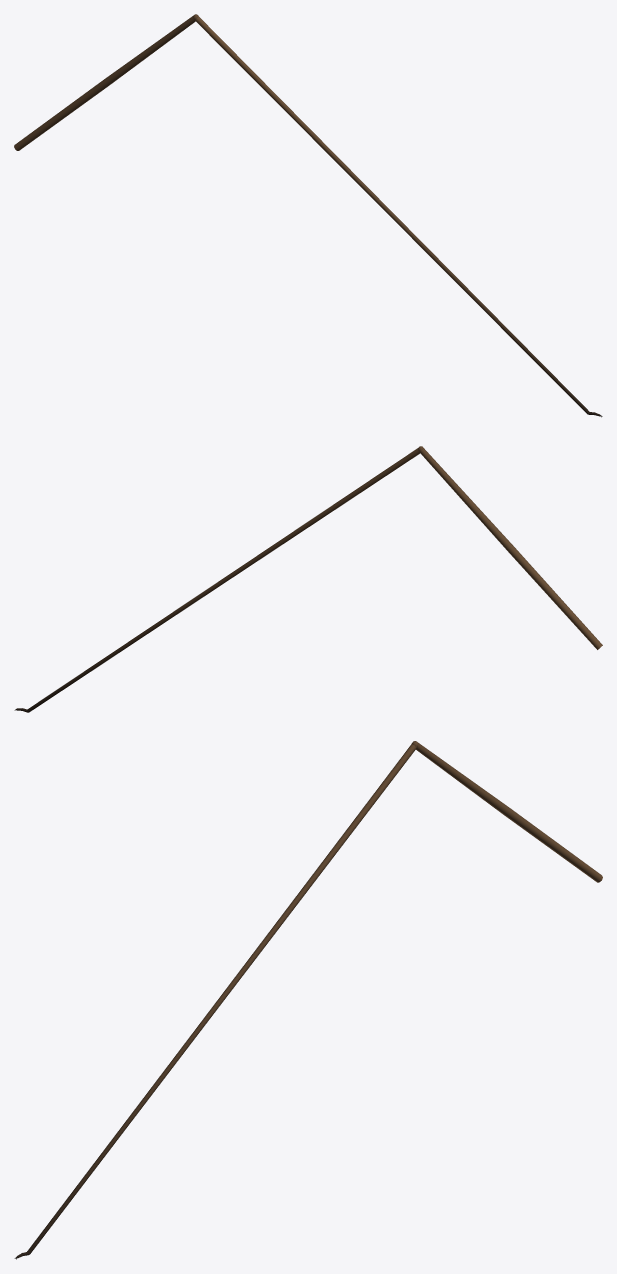
Rendered from Zatoumushi_Leg4.fbx.
The picture shows the model from 3 angles, top to bottom: view 1: azimuth 30°, elevation 25°; view 2: azimuth 210°, elevation 25°; view 3: azimuth 270°, elevation 25°; orthographic projection. The views are drawn at different scales.
Parts seen in each view (by area): view 1: Zatoumushi_Leg4; view 2: Zatoumushi_Leg4; view 3: Zatoumushi_Leg4.
Part boxes in pixels (left/top/right/bottom): Zatoumushi_Leg4: left=14, top=14, right=602, bottom=417; Zatoumushi_Leg4: left=14, top=446, right=602, bottom=712; Zatoumushi_Leg4: left=14, top=741, right=602, bottom=1259.
Bounding box in the file's own units: 1.35 × 1.28 × 1.77.
